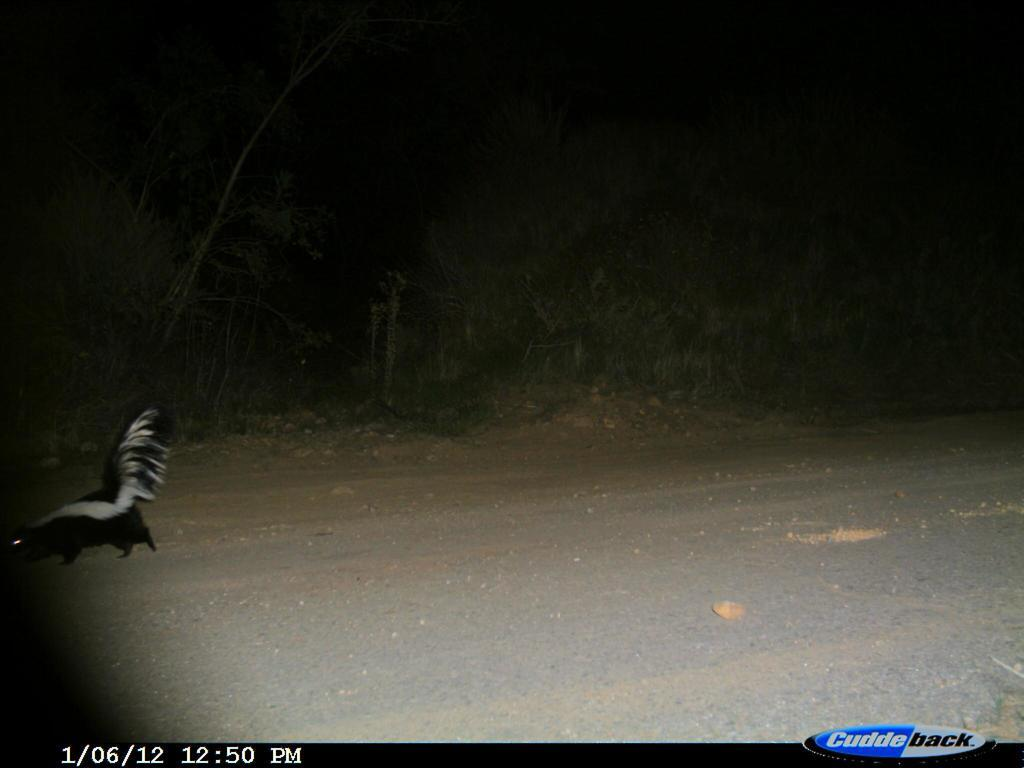skunk: (9, 388, 178, 575)
